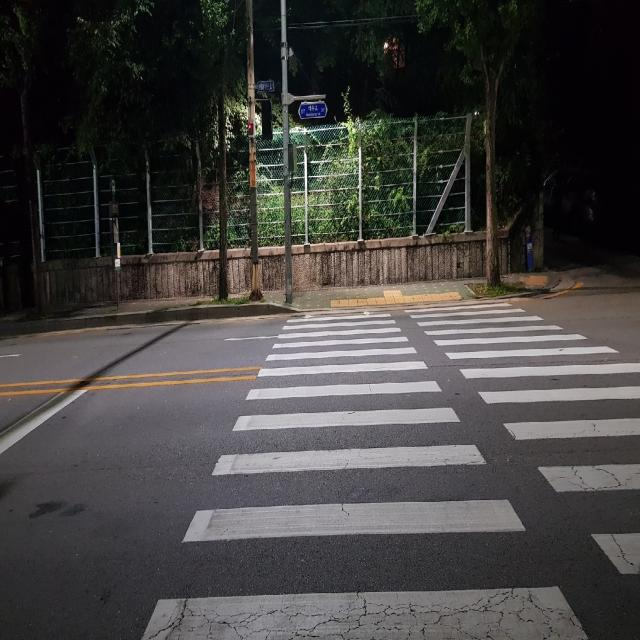횡단보도: (139, 300, 640, 640)
